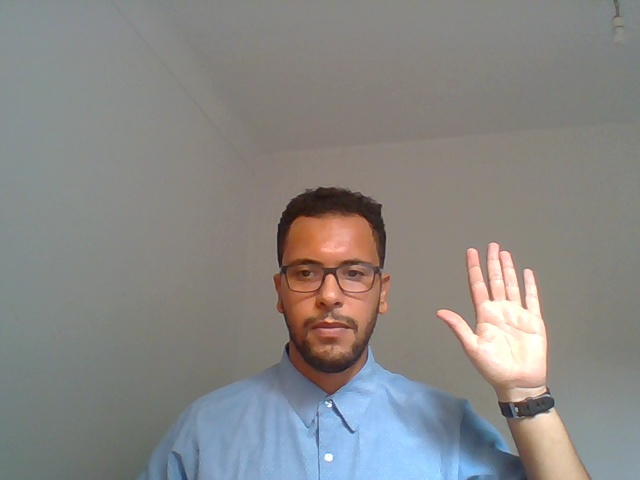hello: (414, 214, 595, 480)
